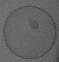small: (28, 18, 39, 30)
